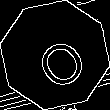O_NW: (23, 22, 87, 88)
